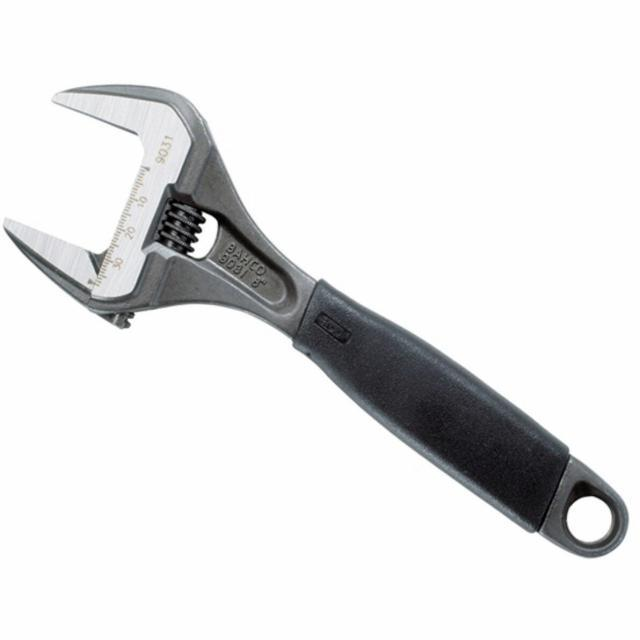wrench: (4, 80, 632, 564)
